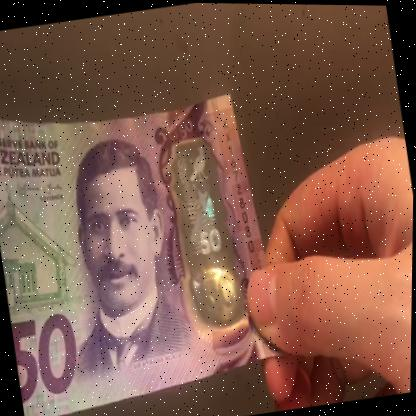50F: (165, 136, 246, 326)
